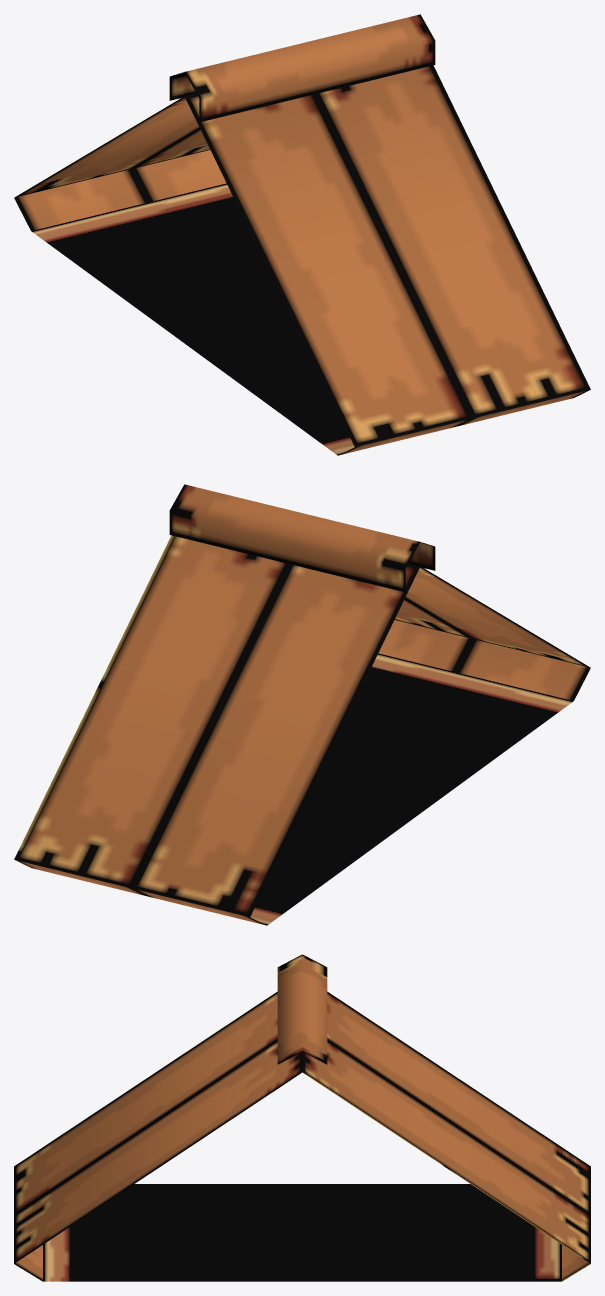
The model's file is arch_roof_straight_wood.FBX.
3 renders of one model, top to bottom at view 1: azimuth 30°, elevation 25°; view 2: azimuth 150°, elevation 25°; view 3: azimuth 270°, elevation 25°, orthographic. The views are drawn at different scales.
Parts seen in each view (by area): view 1: arch_roof_straight_wood; view 2: arch_roof_straight_wood; view 3: arch_roof_straight_wood.
Part boxes in pixels (x1,y1,x2,y2): arch_roof_straight_wood: [14, 14, 590, 455]; arch_roof_straight_wood: [14, 484, 590, 925]; arch_roof_straight_wood: [14, 954, 590, 1281].
Bounding box in the file's own units: 2 × 2.2 × 5.
1 material, 1 textured.
